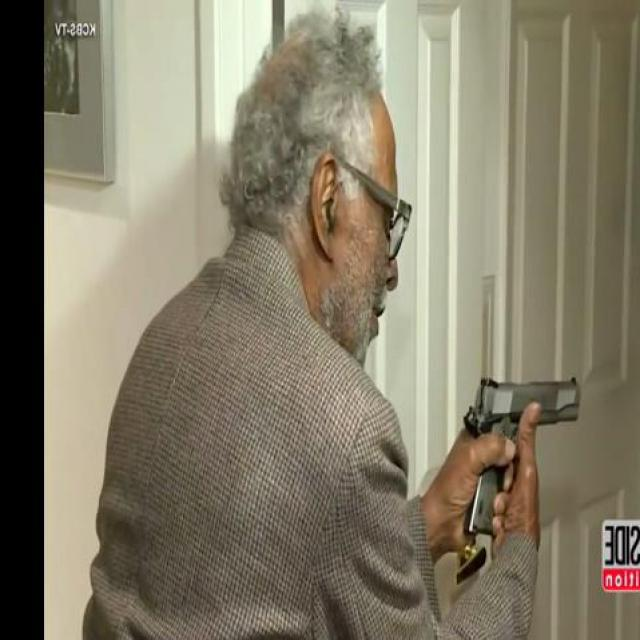Gun: (461, 371, 584, 538)
